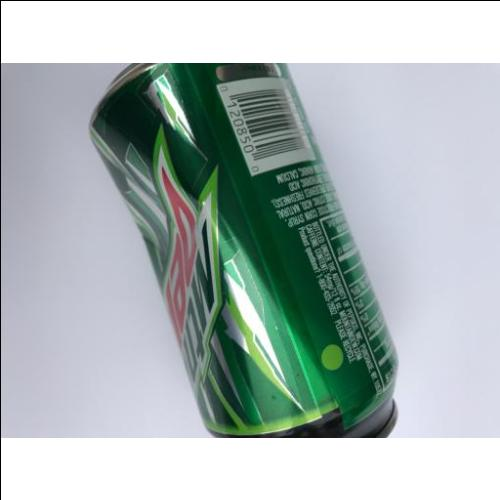metal: (91, 65, 399, 436)
